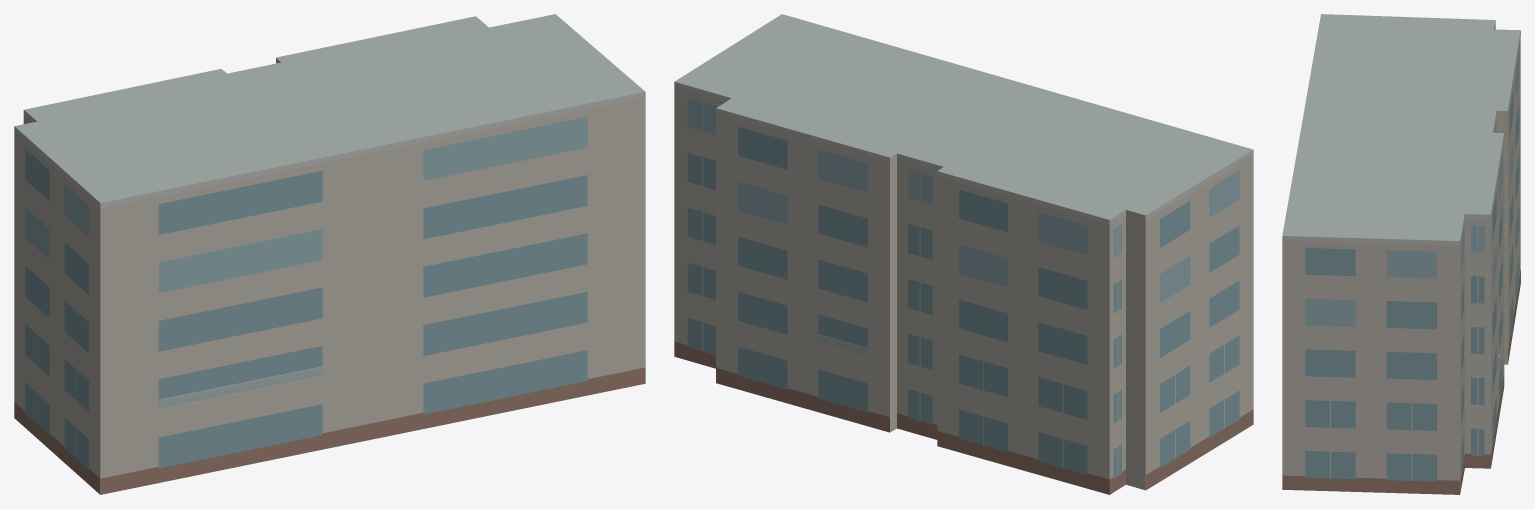
The model's file is survey-upis-32680883.glb.
The picture shows the model from 3 angles, left to right: view 1: azimuth 30°, elevation 25°; view 2: azimuth 150°, elevation 25°; view 3: azimuth 270°, elevation 25°; orthographic projection. The views are drawn at different scales.
Visible parts, largest first — view 1: survey-upis-32680883.tmp; view 2: survey-upis-32680883.tmp; view 3: survey-upis-32680883.tmp.
Part boxes in pixels (left/top/right/bottom): survey-upis-32680883.tmp: left=14, top=14, right=645, bottom=494; survey-upis-32680883.tmp: left=674, top=14, right=1253, bottom=494; survey-upis-32680883.tmp: left=1282, top=14, right=1520, bottom=494.
Bounding box in the file's own units: 25.14 × 13.1 × 11.16.
